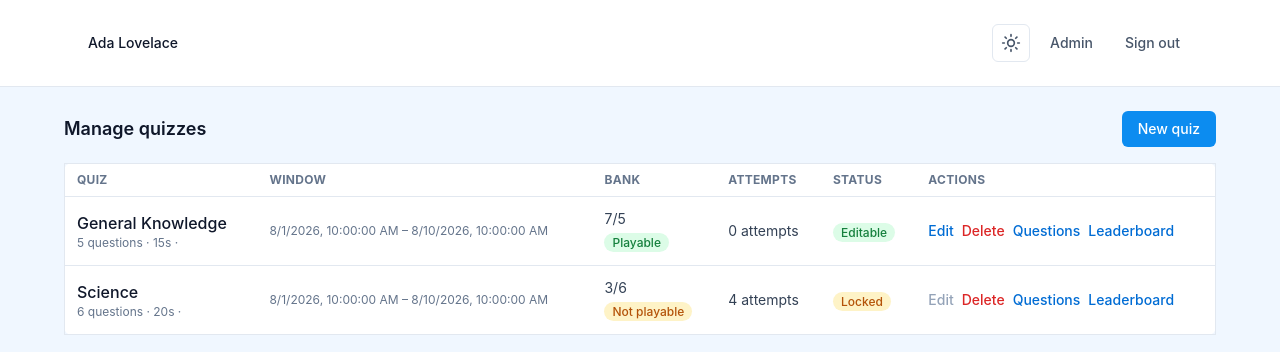
Test case: Admin › should_delete_quiz_and_remove_row_when_confirmed
Expected: the text "General Knowledge" is shown, x1=77 y1=213 x2=227 y2=233
Step 1. Click the button "Delete" in the row of "General Knowledge" → (983, 231), box x1=962 y1=221 x2=1005 y2=241
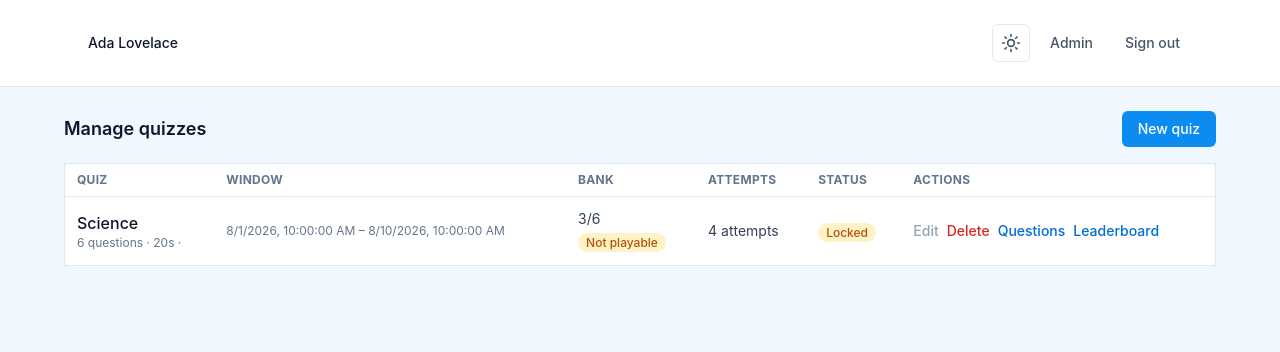
Expected: the text "Science" is shown, x1=77 y1=213 x2=138 y2=233
Result: the text "General Knowledge" is gone
